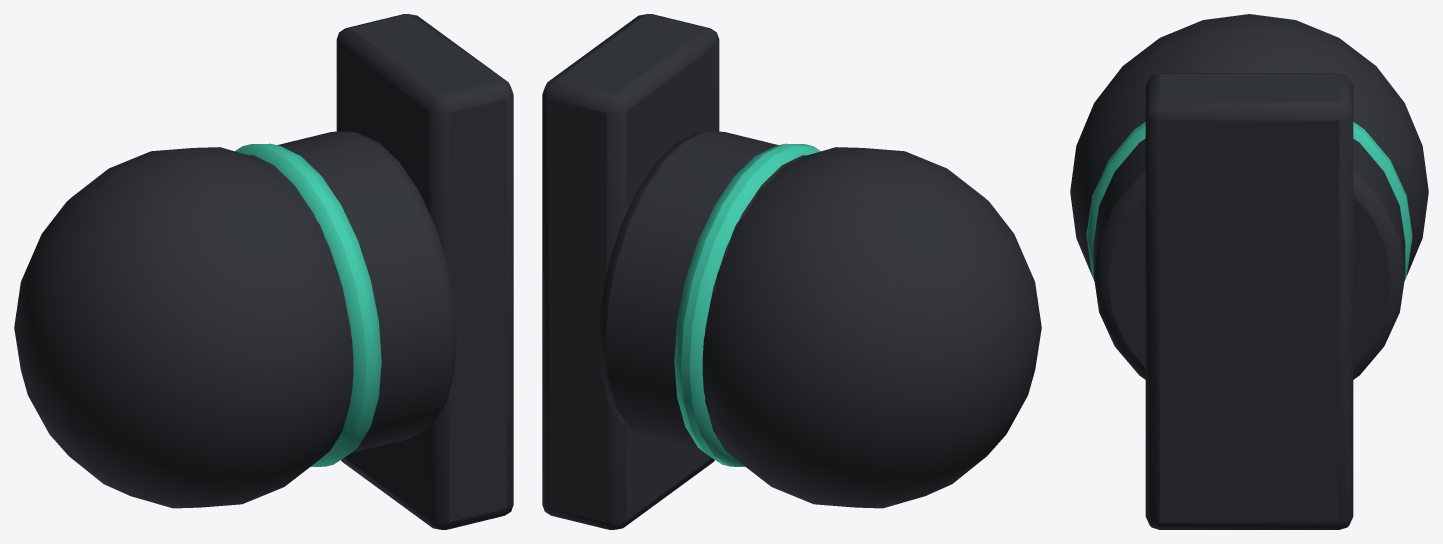
Rendered from wrist.obj.
3 views of the same model, side by side, from view 1: azimuth 30°, elevation 25°; view 2: azimuth 150°, elevation 25°; view 3: azimuth 270°, elevation 25° (orthographic).
Parts seen in each view (by area): view 1: wrist; view 2: wrist; view 3: wrist.
Boxes of the visible parts, x1,y1,x2,y2 form: wrist: (14, 14, 513, 529); wrist: (542, 14, 1041, 529); wrist: (1070, 14, 1428, 529).
Bounding box in the file's own units: 0.103 × 0.1 × 0.076.
